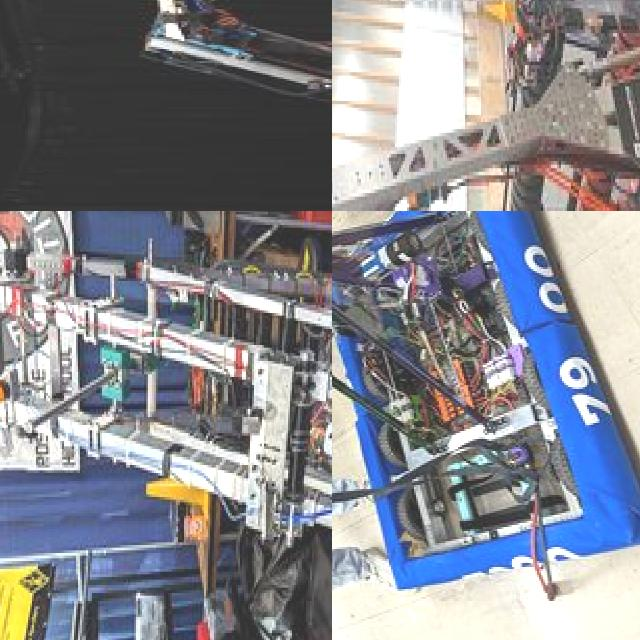FRC-Robots: (0, 211, 332, 640), (332, 211, 640, 640), (332, 0, 640, 211), (0, 0, 332, 178)
